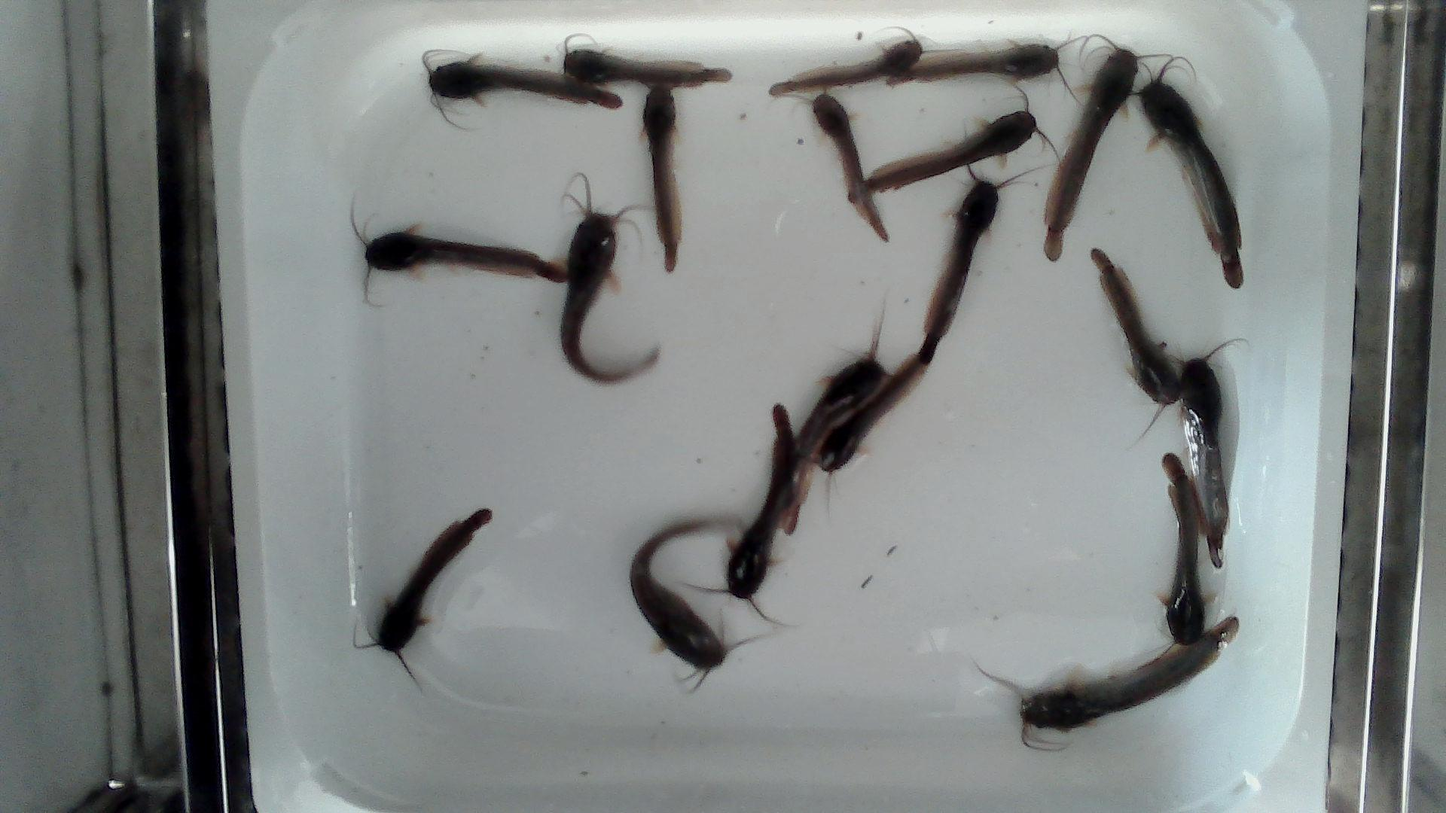lele: (978, 616, 1241, 754), (1042, 31, 1161, 265), (1131, 54, 1246, 289), (779, 304, 894, 536), (355, 509, 493, 683), (686, 404, 796, 622), (918, 161, 1035, 362), (634, 522, 768, 697), (868, 79, 1061, 192), (347, 216, 567, 311), (560, 171, 657, 382), (817, 337, 938, 504), (1088, 248, 1184, 445), (1176, 337, 1254, 572), (770, 93, 888, 241), (421, 49, 625, 132), (885, 35, 1081, 105), (769, 27, 960, 97), (1155, 455, 1217, 661), (563, 32, 731, 90), (638, 87, 684, 273)
